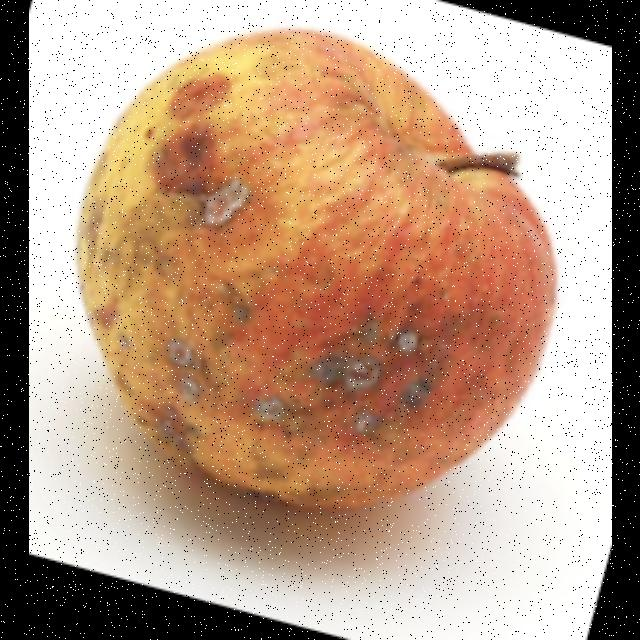Apel Tidak Segar: (66, 26, 566, 508)
